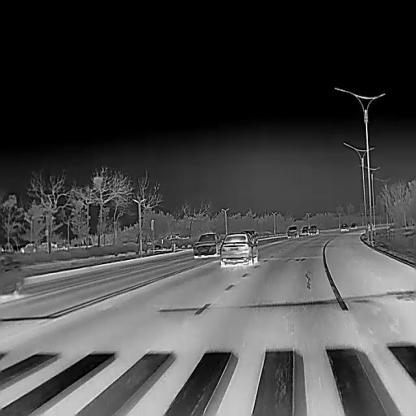car: (220, 233, 258, 265), (193, 233, 221, 258), (287, 226, 298, 237), (309, 224, 318, 234), (301, 226, 309, 235), (340, 223, 348, 232), (350, 223, 357, 228)
